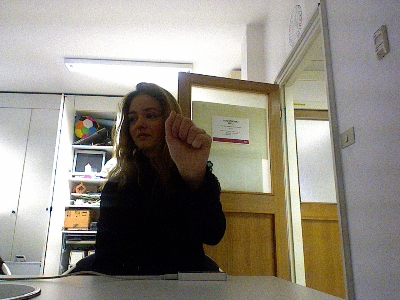石头: (162, 109, 212, 176)
